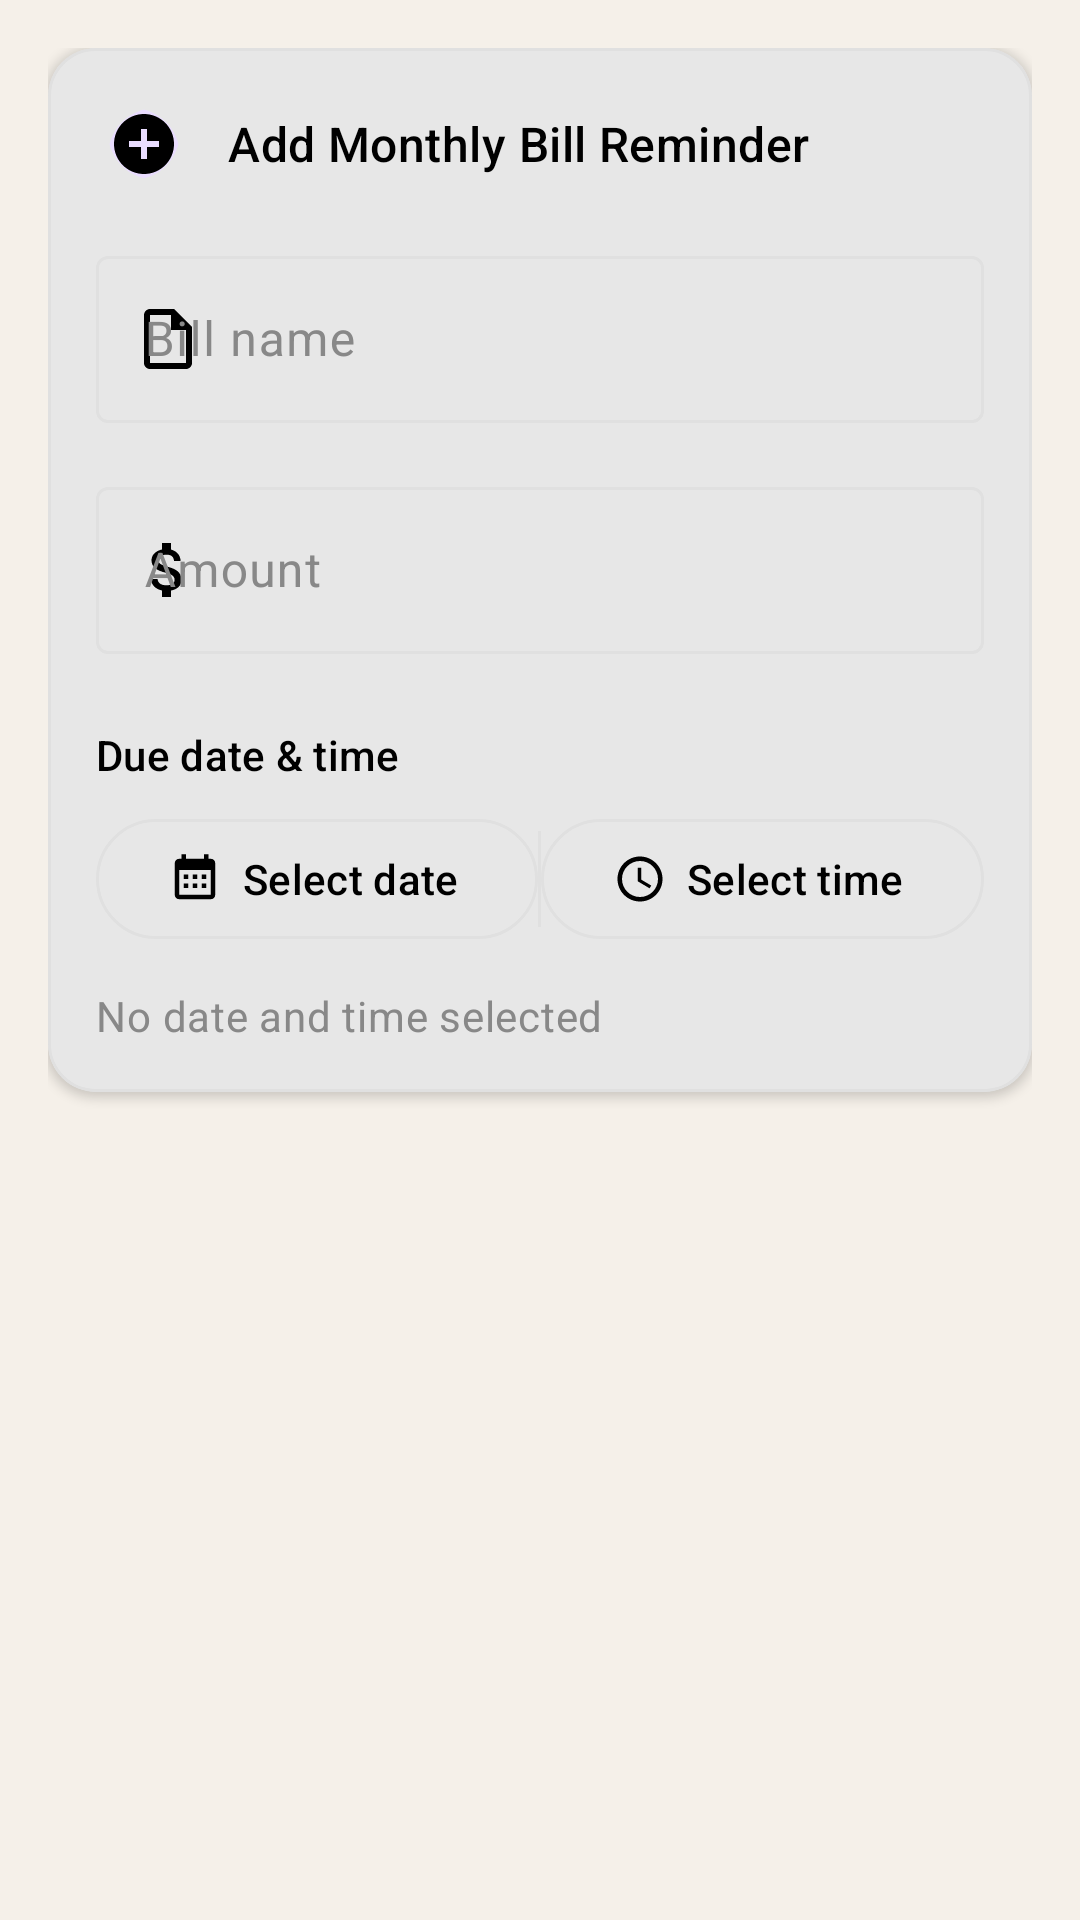

Icon click points for this 1080w x 1920h phone screenshot, format point (x, y):
add circle: point (144, 144)
